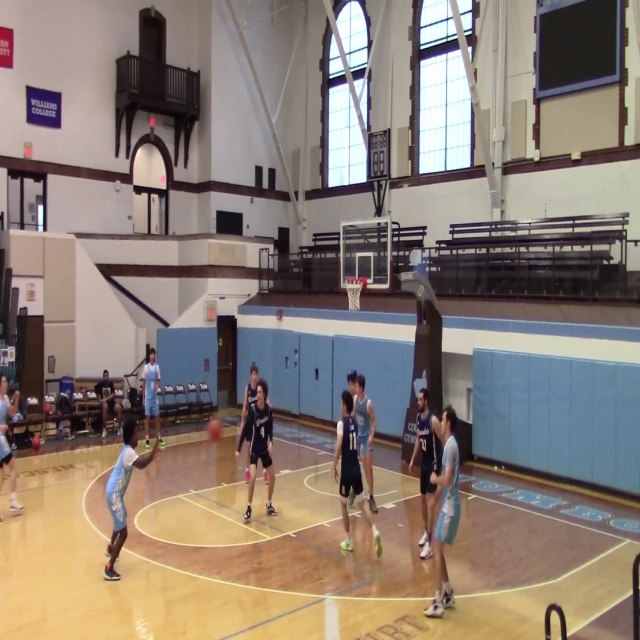Basketball: (208, 419, 222, 442)
